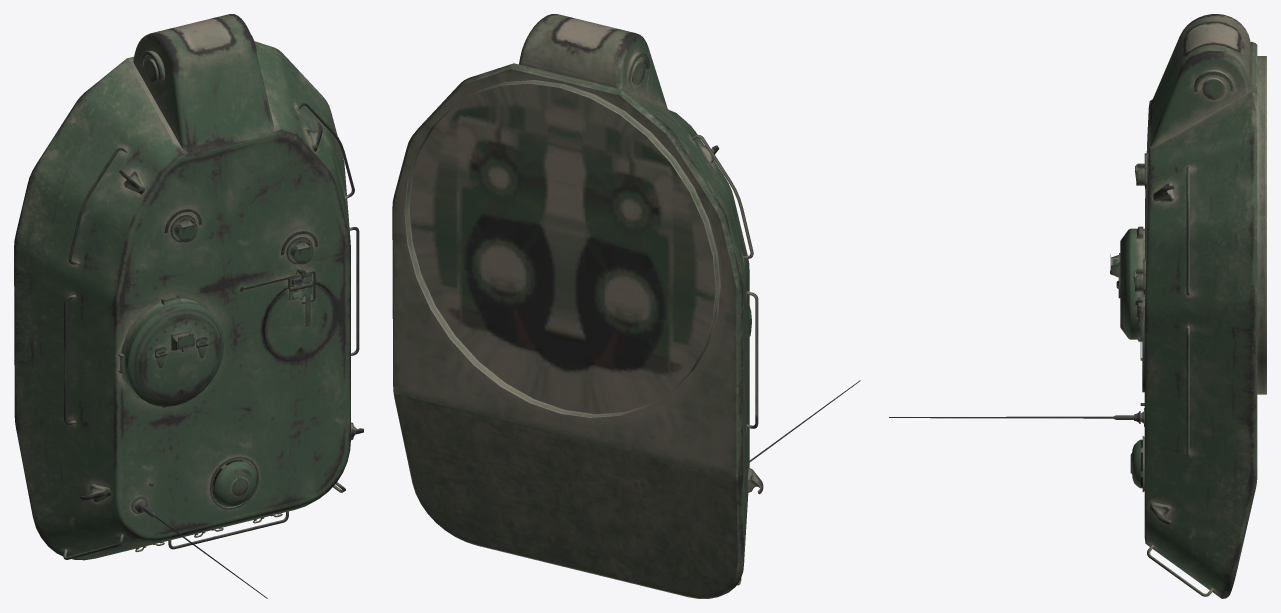
File: Turret_01.glb
3 views of the same model, side by side, from view 1: azimuth 30°, elevation 25°; view 2: azimuth 150°, elevation 25°; view 3: azimuth 270°, elevation 25° (orthographic). The views are drawn at different scales.
Parts seen in each view (by area): view 1: set_0_group_0; view 2: set_0_group_0; view 3: set_0_group_0.
Boxes of the visible parts, bbox=[...] form: set_0_group_0: bbox=[14, 14, 363, 598]; set_0_group_0: bbox=[392, 14, 860, 598]; set_0_group_0: bbox=[889, 14, 1266, 598].
Bounding box in the file's own units: 2.8 × 4.16 × 2.79.
Materials: 1 (1 with a texture image).
